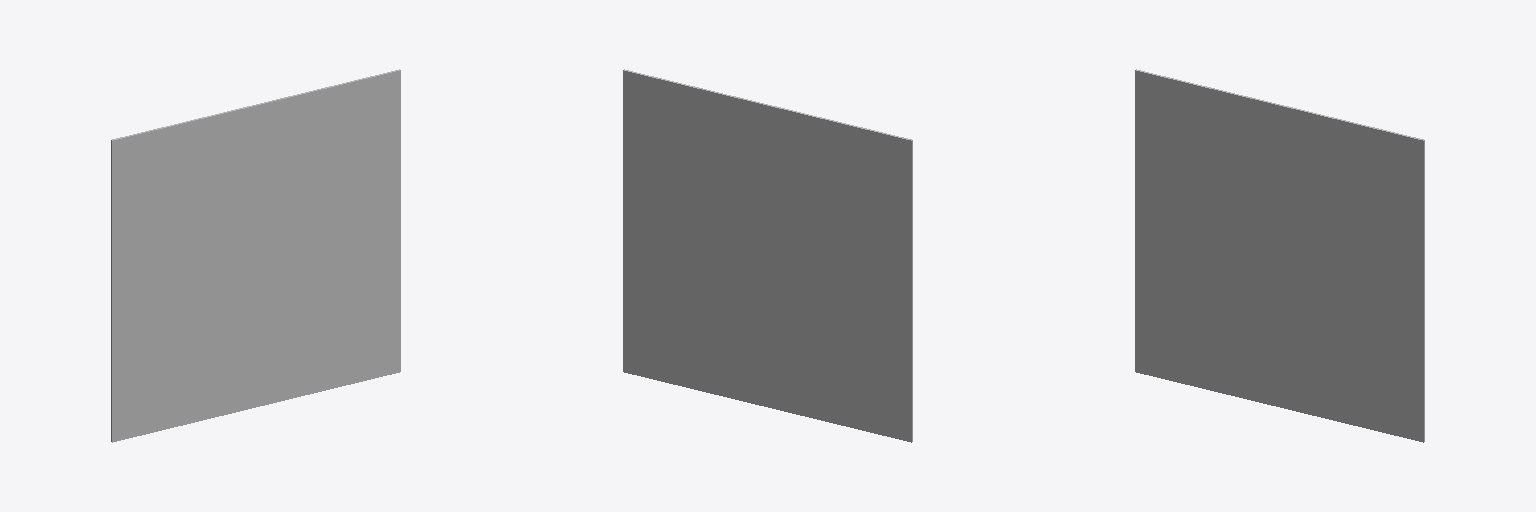
Rendered from water.ply.obj.
3 views of the same model, side by side, from view 1: azimuth 30°, elevation 25°; view 2: azimuth 150°, elevation 25°; view 3: azimuth 330°, elevation 25° (orthographic).
Visible parts, largest first — view 1: default; view 2: default; view 3: default.
Boxes of the visible parts, x1,y1,x2,y2 form: default: [111, 69, 400, 442]; default: [623, 69, 912, 442]; default: [1135, 69, 1424, 442].
Bounding box in the file's own units: 126 × 126 × 1.